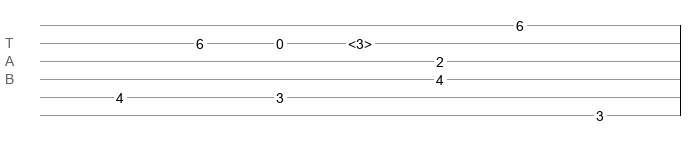0: (276, 36, 284, 46)
2: (436, 54, 444, 64)
3: (276, 90, 284, 100), (596, 108, 604, 118)
4: (116, 90, 124, 100), (436, 72, 444, 82)
6: (196, 36, 204, 46), (516, 18, 524, 28)
harmonic: (348, 36, 372, 46)
